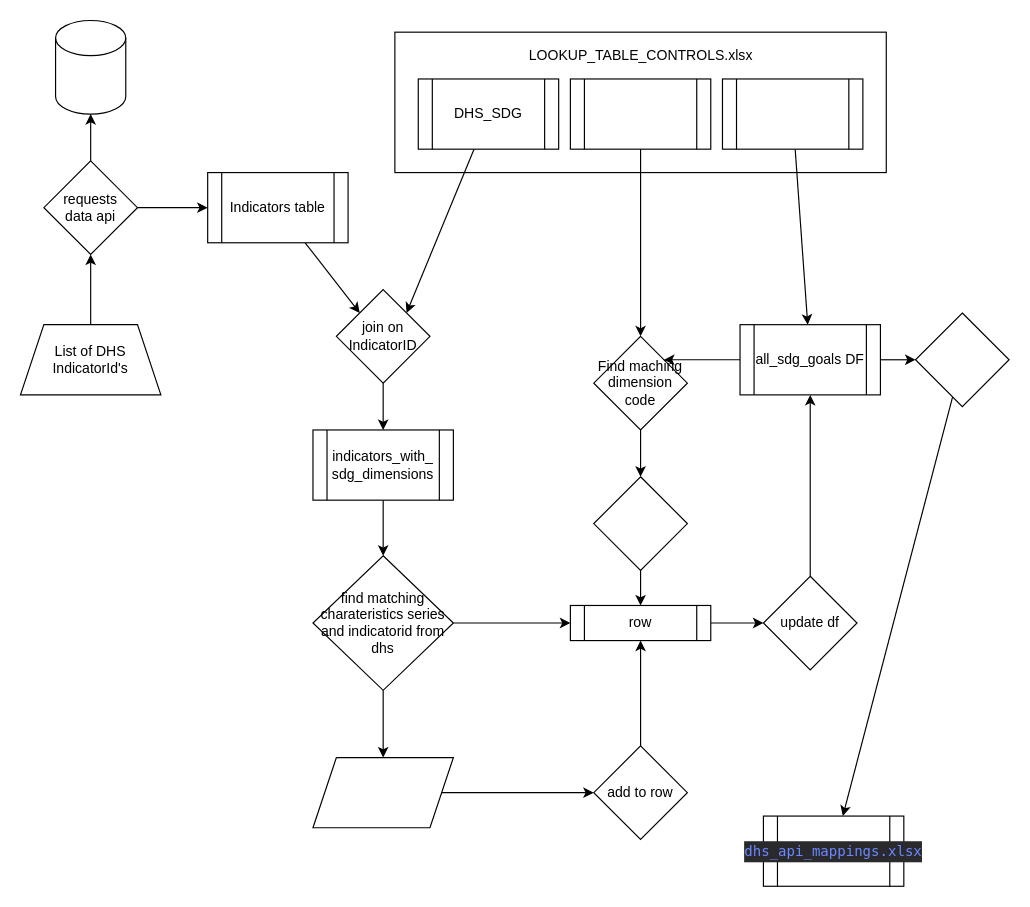
The diagram is 1030 pixels wide and 907 high, and some of its shapes have lost their labels. Here are the shapes that lost their labels. From the top down, the centre of each, then its label:
(90,66): DHS API
(640,113): characteristic_ dimension
(792,113): all_sdg_goals
(961,359): export to excel
(640,523): return all_sdg_goal row
(382,792): Id list Value
